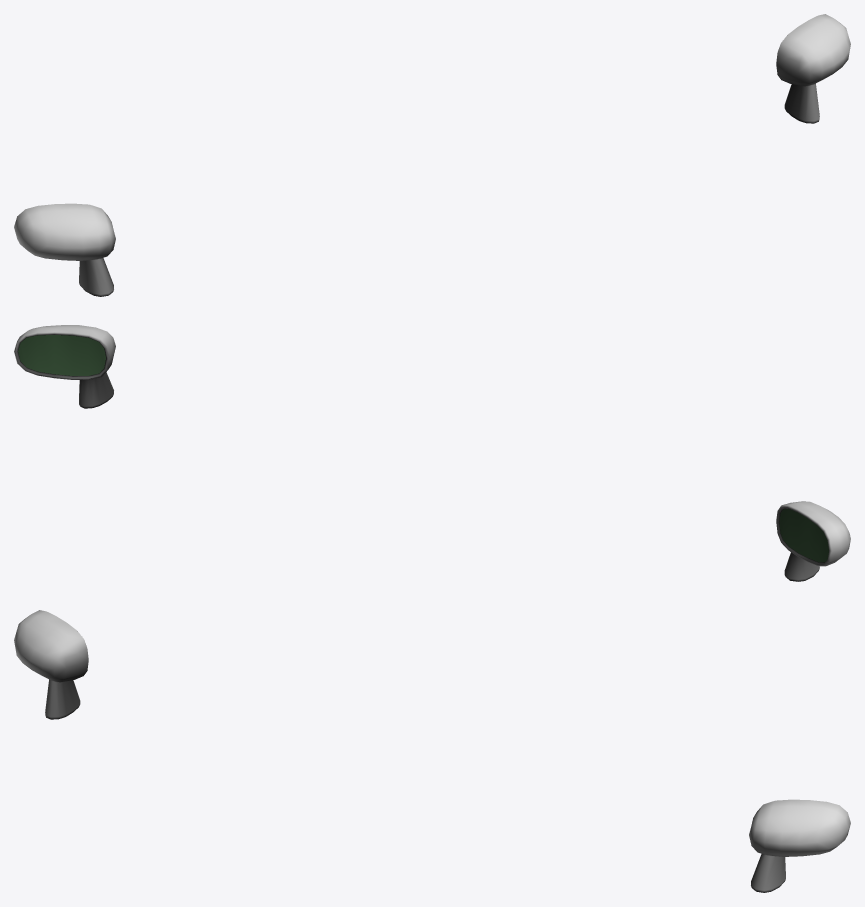
Rendered from Agera_Mirror_01_Carbon.fbx.
3 views of the same model, one above another, from view 1: azimuth 30°, elevation 25°; view 2: azimuth 150°, elevation 25°; view 3: azimuth 330°, elevation 25° (orthographic).
Parts seen in each view (by area): view 1: Agera_Mirror_01_Carbon; view 2: Agera_Mirror_01_Carbon; view 3: Agera_Mirror_01_Carbon.
Part boxes in pixels (box(x1,y1,x2,y2)): Agera_Mirror_01_Carbon: box(14, 14, 850, 296); Agera_Mirror_01_Carbon: box(14, 325, 850, 581); Agera_Mirror_01_Carbon: box(14, 610, 850, 892).
Size of the model in its own units: 195 by 17.52 by 16.03.
